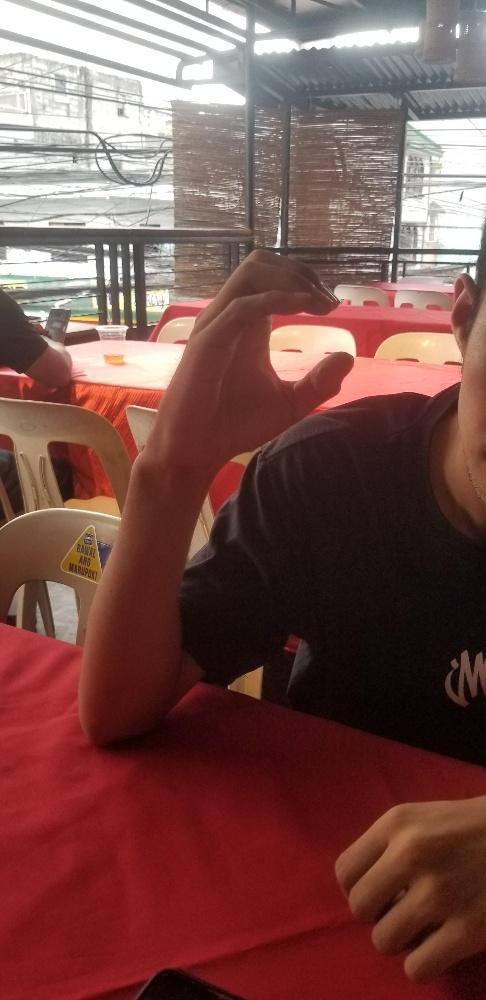c: (145, 246, 357, 470)
